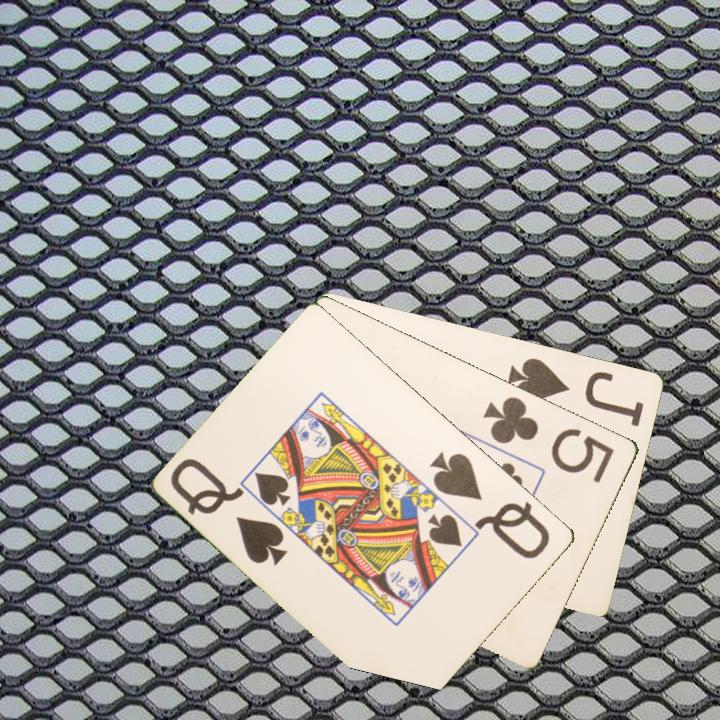5c: (479, 392, 618, 486)
Js: (504, 354, 647, 429)
Qs: (427, 448, 554, 563), (167, 454, 291, 569)
